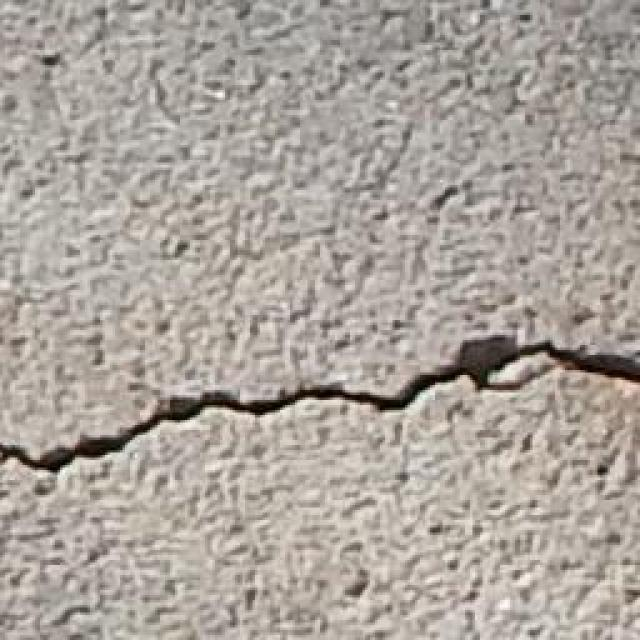concrete-crack: (3, 325, 640, 481)
